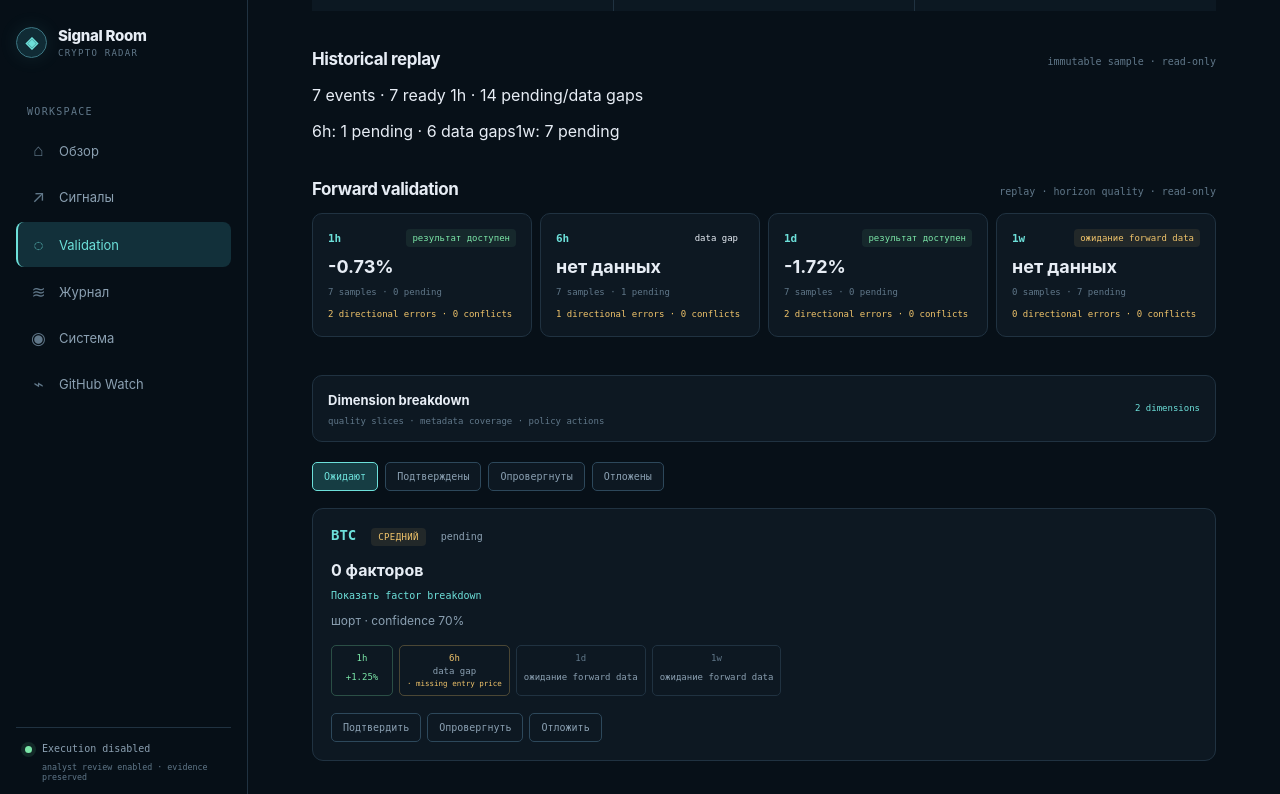
Test case: validation workspace › shows policy, outcome semantics and human review controls
The image size is (1280, 794).
(page scrolled)
Check: the heading "Historical replay" is shown, box [312,49,440,69]
Check: the text "7 events · 7 ready 1h · 14 pending/data gaps" is shown, box [312,85,643,105]
Click the text "Dimension breakdown". click: (399, 400)
box: [328,392,470,408]
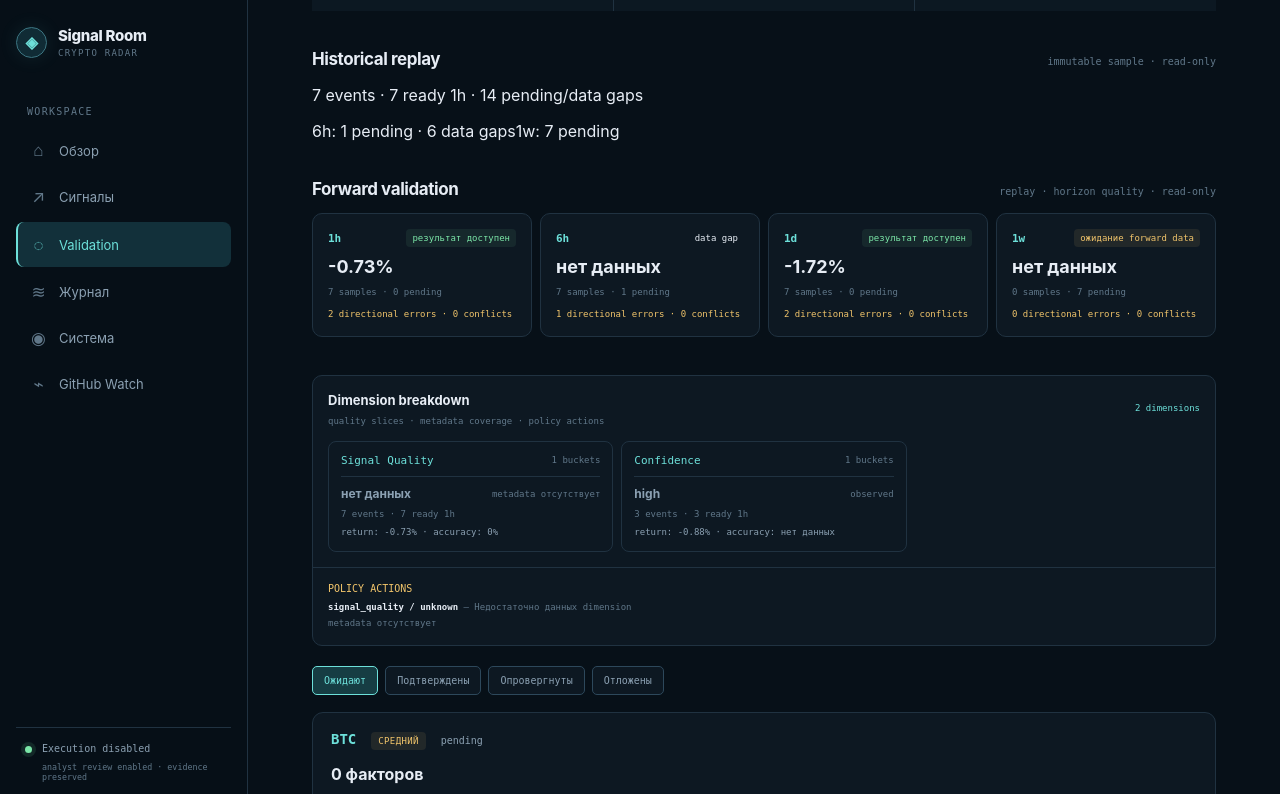
Check: the text "metadata отсутствует" is shown 2 times, box [492,489,600,499]; [328,618,436,628]
